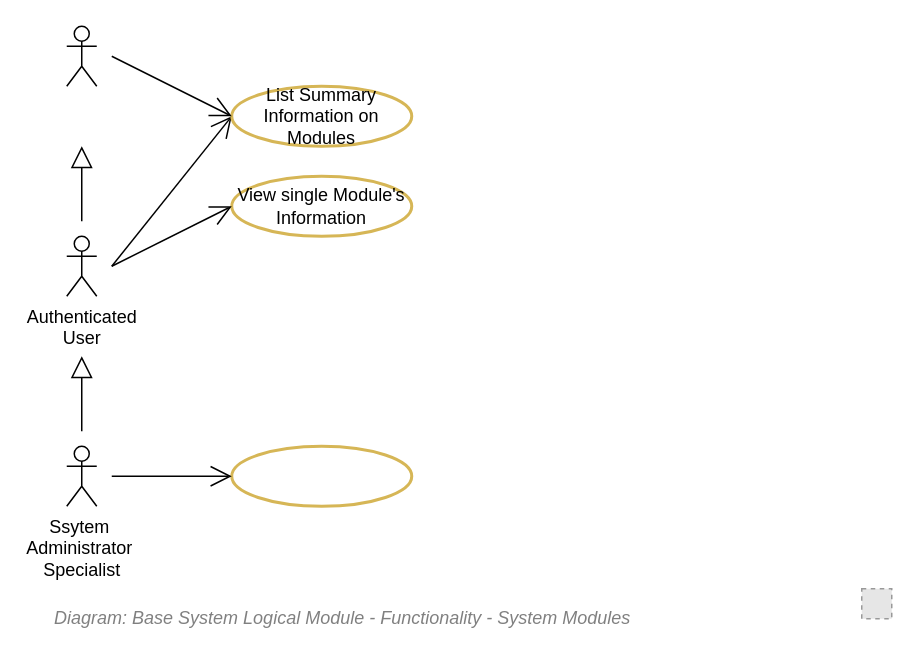
Some shapes in this 918 by 660 pixel diagram are drawn without their labels. Grey dashed boxes stand in for pictures. The shapes that lost their labels are listed below. From the top down, each one's centre as x and y in pixels, then its label:
the point at 81,55: Public User
the point at 321,475: Enable/Disable a Module
